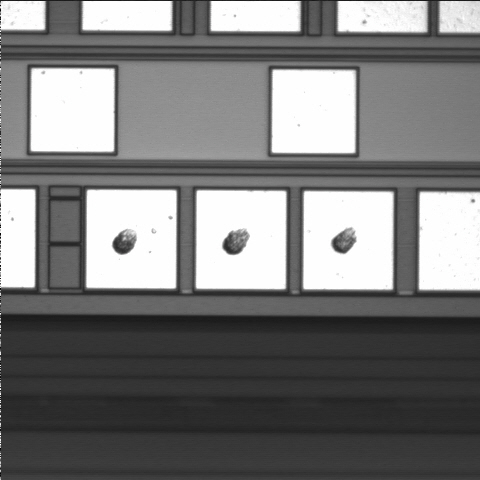pad: (196, 190, 286, 289), (303, 191, 393, 290), (86, 190, 176, 288), (31, 69, 114, 152), (272, 70, 355, 153)
